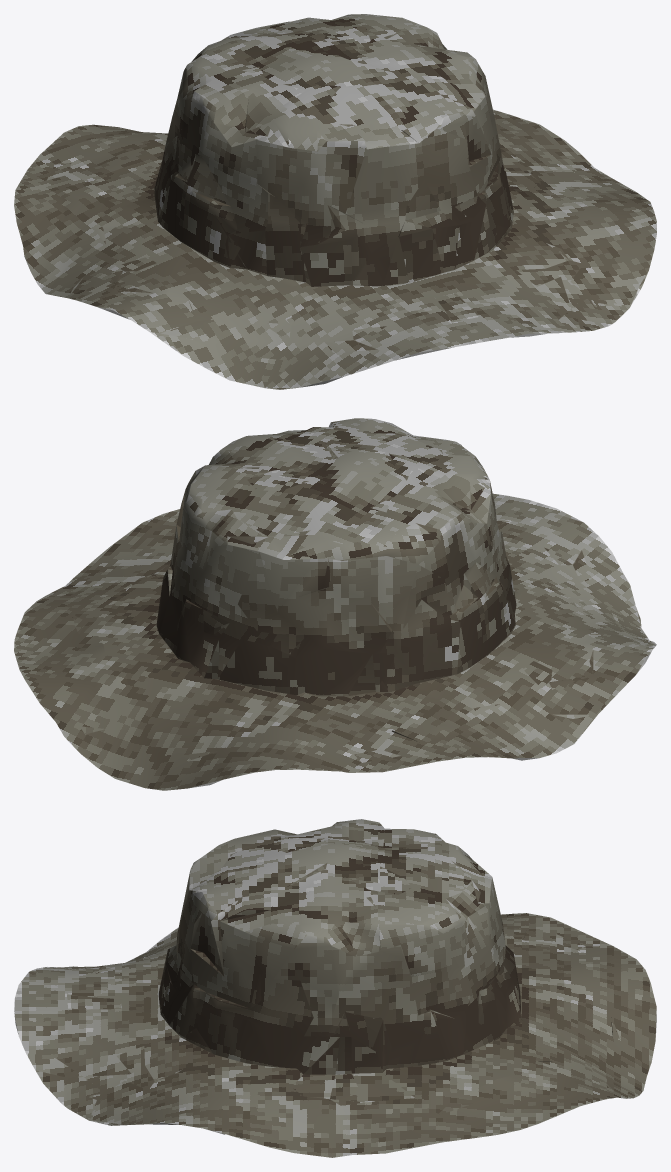
The model's file is fishermans_hat.glb.
3 views of the same model, one above another, from view 1: azimuth 30°, elevation 25°; view 2: azimuth 150°, elevation 25°; view 3: azimuth 270°, elevation 25° (orthographic). The views are drawn at different scales.
Visible parts, largest first — view 1: body; view 2: body; view 3: body.
Part boxes in pixels (x1,y1,x2,y2): body: [14, 14, 656, 389]; body: [14, 418, 656, 790]; body: [14, 819, 656, 1157].
Size of the model in its own units: 0.3237 by 0.1239 by 0.3521.
Materials: 1 (1 with a texture image).
